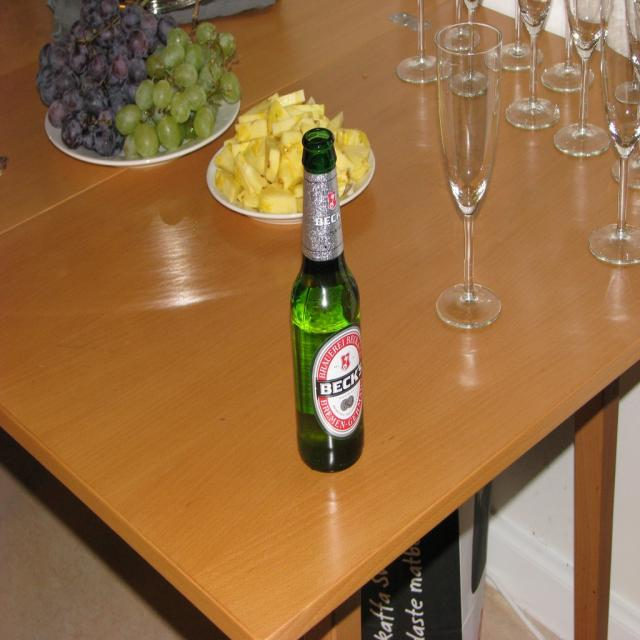becks: (312, 328, 364, 439)
